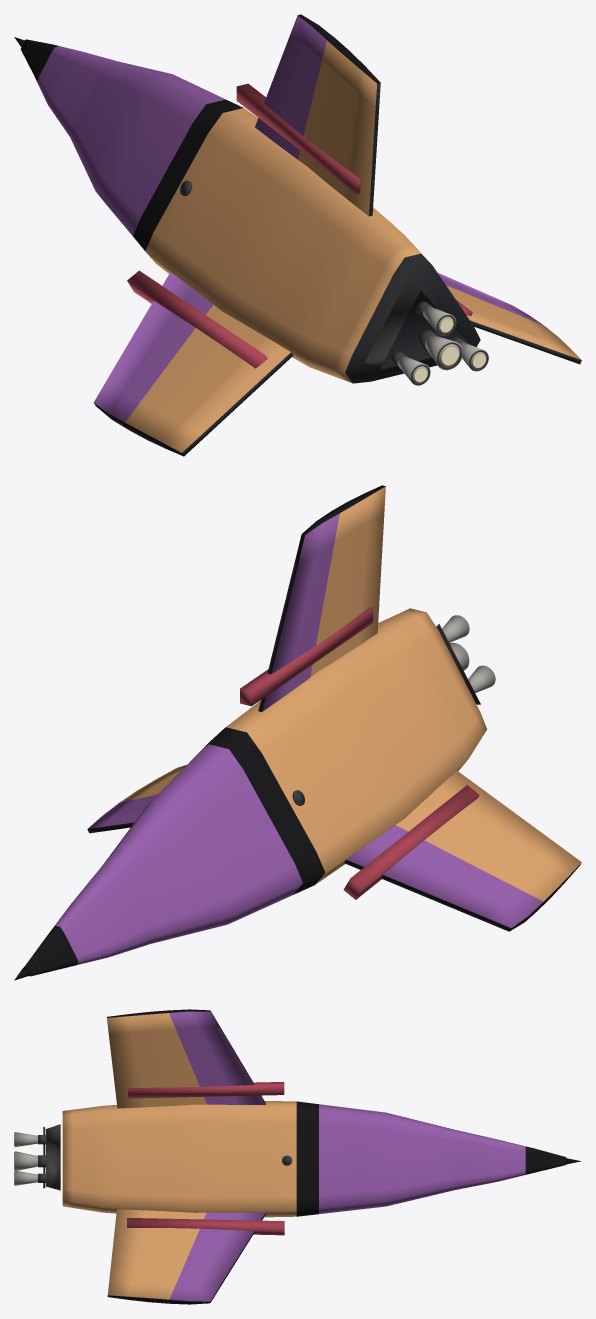
The model's file is Ship_Standard_12.glb.
The picture shows the model from 3 angles, top to bottom: view 1: azimuth 30°, elevation 25°; view 2: azimuth 150°, elevation 25°; view 3: azimuth 270°, elevation 25°; orthographic projection. The views are drawn at different scales.
Visible parts, largest first — view 1: Fuselage_RoundedTriangleTriFoldBody, Wing_LowerLeft_TriFoldCornerBladePaintedMesh, Wing_Dorsal_TriFoldCornerBladePaintedMesh, Nose_RoundedTriangleTaperedForwardSection, Wing_LowerRight_TriFoldCornerBladePaintedMesh, WingRootSocket_LowerLeft_IntegratedEmbeddedShoulder, WingRootSocket_Dorsal_IntegratedEmbeddedShoulder, EngineBlock_AftTriFoldTrimFrame, EngineBlock_AftTriangularIntegratedMountPlate, EngineEmitter, EngineBell_Center_BurnishedNozzle; view 2: Fuselage_RoundedTriangleTriFoldBody, Wing_LowerLeft_TriFoldCornerBladePaintedMesh, Wing_Dorsal_TriFoldCornerBladePaintedMesh, Nose_RoundedTriangleTaperedForwardSection, WingRootSocket_LowerLeft_IntegratedEmbeddedShoulder, WingRootSocket_Dorsal_IntegratedEmbeddedShoulder, Wing_LowerRight_TriFoldCornerBladePaintedMesh; view 3: Fuselage_RoundedTriangleTriFoldBody, Wing_Dorsal_TriFoldCornerBladePaintedMesh, Wing_LowerRight_TriFoldCornerBladePaintedMesh, Nose_RoundedTriangleTaperedForwardSection, WingRootSocket_Dorsal_IntegratedEmbeddedShoulder, WingRootSocket_LowerRight_IntegratedEmbeddedShoulder, EngineBlock_AftTriangularIntegratedMountPlate.
Boxes of the visible parts, x1,y1,x2,y2 form: Fuselage_RoundedTriangleTriFoldBody: (70, 61, 480, 383); Wing_LowerLeft_TriFoldCornerBladePaintedMesh: (93, 272, 293, 456); Wing_Dorsal_TriFoldCornerBladePaintedMesh: (255, 14, 380, 216); Nose_RoundedTriangleTaperedForwardSection: (20, 39, 116, 136); Wing_LowerRight_TriFoldCornerBladePaintedMesh: (438, 273, 581, 364); WingRootSocket_LowerLeft_IntegratedEmbeddedShoulder: (127, 270, 267, 368); WingRootSocket_Dorsal_IntegratedEmbeddedShoulder: (236, 83, 360, 193); EngineBlock_AftTriFoldTrimFrame: (380, 290, 472, 369); EngineBlock_AftTriangularIntegratedMountPlate: (364, 277, 420, 366); EngineEmitter: (414, 318, 485, 382); EngineBell_Center_BurnishedNozzle: (425, 335, 462, 370); Fuselage_RoundedTriangleTriFoldBody: (101, 608, 487, 943); Wing_LowerLeft_TriFoldCornerBladePaintedMesh: (344, 770, 581, 931); Wing_Dorsal_TriFoldCornerBladePaintedMesh: (258, 485, 385, 711); Nose_RoundedTriangleTaperedForwardSection: (24, 860, 155, 976); WingRootSocket_LowerLeft_IntegratedEmbeddedShoulder: (343, 785, 479, 899); WingRootSocket_Dorsal_IntegratedEmbeddedShoulder: (240, 607, 373, 706); Wing_LowerRight_TriFoldCornerBladePaintedMesh: (87, 765, 186, 833); Fuselage_RoundedTriangleTriFoldBody: (62, 1101, 454, 1217); Wing_Dorsal_TriFoldCornerBladePaintedMesh: (107, 1009, 265, 1108); Wing_LowerRight_TriFoldCornerBladePaintedMesh: (107, 1209, 265, 1304); Nose_RoundedTriangleTaperedForwardSection: (454, 1129, 566, 1190); WingRootSocket_Dorsal_IntegratedEmbeddedShoulder: (128, 1082, 284, 1098); WingRootSocket_LowerRight_IntegratedEmbeddedShoulder: (127, 1218, 284, 1235); EngineBlock_AftTriangularIntegratedMountPlate: (46, 1124, 60, 1190).
Size of the model in its own units: 4.59 by 3.63 by 8.24.
